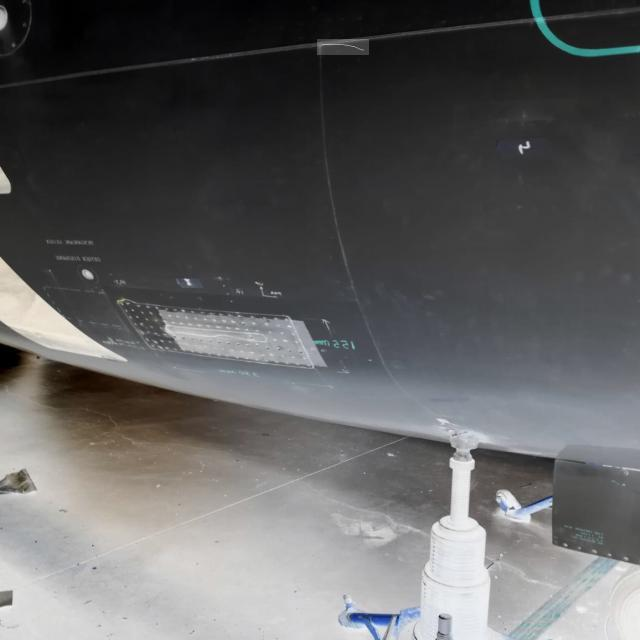crack: (319, 40, 371, 56)
